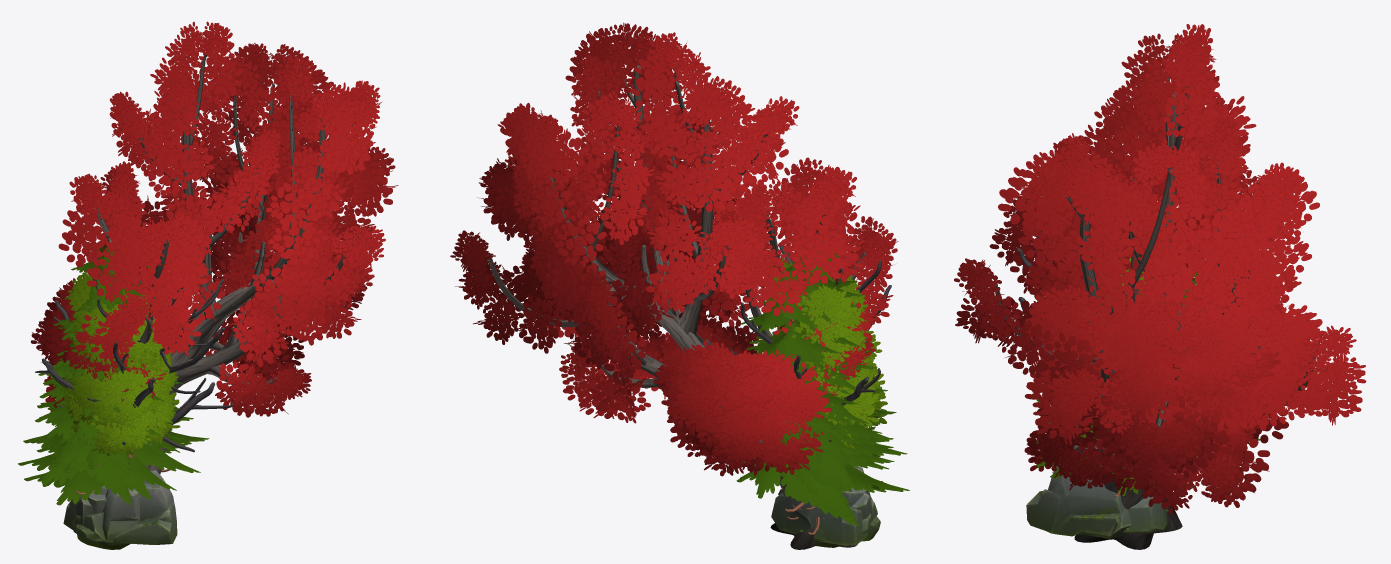
The model's file is nature.glb.
3 views of the same model, side by side, from view 1: azimuth 30°, elevation 25°; view 2: azimuth 150°, elevation 25°; view 3: azimuth 270°, elevation 25° (orthographic). The views are drawn at different scales.
Parts seen in each view (by area): view 1: TwistedTree_1, CommonTree_3, Pine_4, Rock_Medium_3, Pine_2, Pine_5, CommonTree_1, DeadTree_1, CommonTree_2, Rock_Medium_1, CommonTree_4, Pine_1 (+1 smaller); view 2: TwistedTree_1, Pine_5, Pine_4, Rock_Medium_2, CommonTree_3, CommonTree_4, Pine_2, DeadTree_1, CommonTree_1, CommonTree_2, Rock_Medium_3; view 3: TwistedTree_1, Rock_Medium_3, Rock_Medium_2.
Boxes of the visible parts, x1,y1,x2,y2 form: TwistedTree_1: (31,21,398,533); CommonTree_3: (68,282,178,432); Pine_4: (23,244,182,494); Rock_Medium_3: (76,470,177,549); Pine_2: (24,358,187,505); Pine_5: (18,318,209,499); CommonTree_1: (66,351,181,455); DeadTree_1: (35,276,233,452); CommonTree_2: (63,337,179,457); Rock_Medium_1: (72,488,140,542); CommonTree_4: (71,266,163,354); Pine_1: (36,353,168,480); TwistedTree_1: (450,22,898,549); Pine_5: (740,288,898,517); Pine_4: (749,241,907,534); Rock_Medium_2: (771,487,867,545); CommonTree_3: (775,261,882,425); CommonTree_4: (763,258,868,379); Pine_2: (736,358,909,526); DeadTree_1: (704,242,891,441); CommonTree_1: (822,350,887,448); CommonTree_2: (772,329,887,427); Rock_Medium_3: (778,489,880,541); TwistedTree_1: (954,24,1366,549); Rock_Medium_3: (1026,464,1124,536); Rock_Medium_2: (1123,496,1166,533).
Bounding box in the file's own units: 14.33 × 16.86 × 11.55.
Materials: 12 (12 with a texture image).
